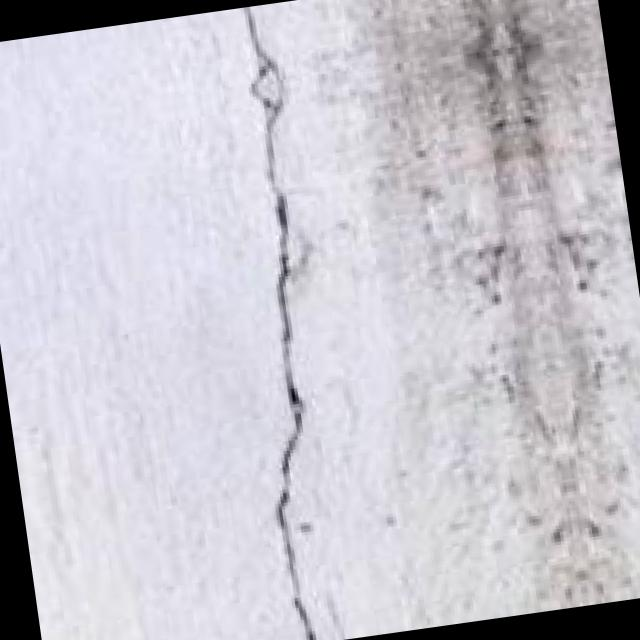crack: (168, 1, 399, 640)
